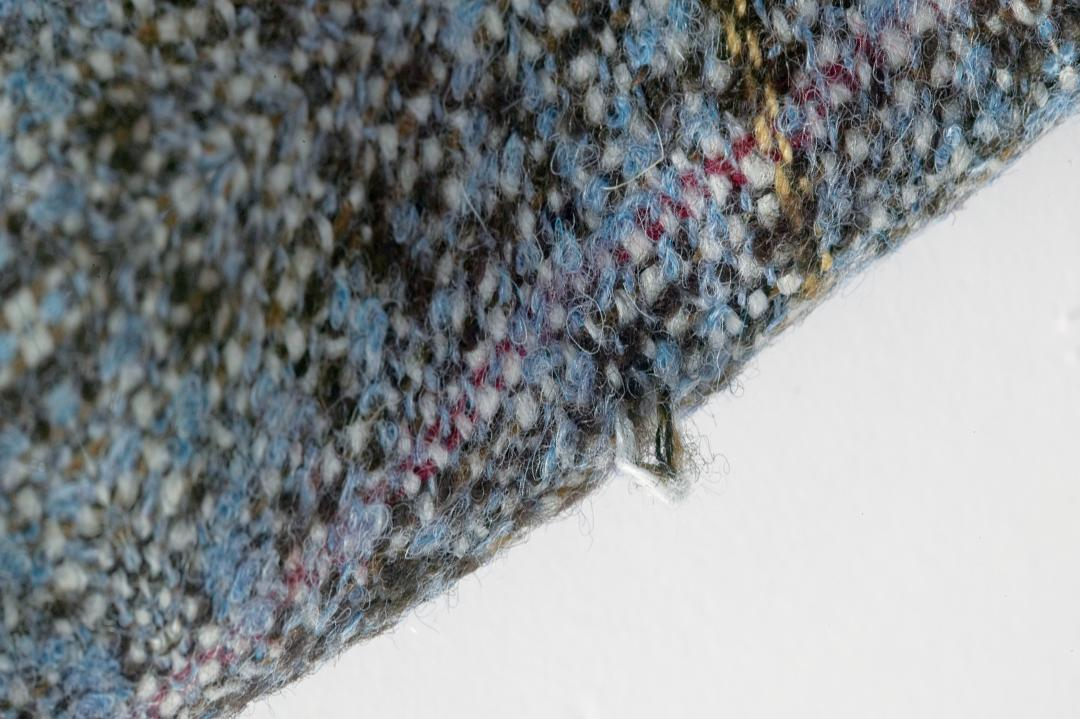snag: (581, 369, 731, 515)
